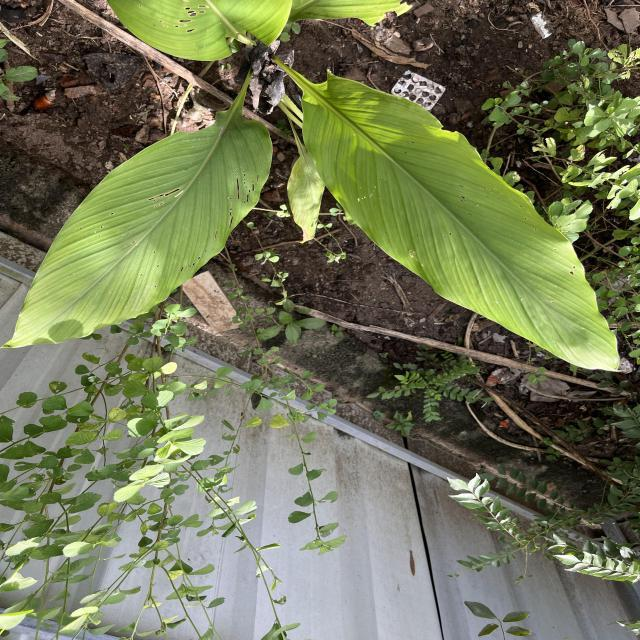Curcuma longa: (300, 72, 624, 375), (0, 106, 274, 352)
